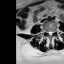CCS_normal: (49, 28, 51, 39)
LFS_stenosis: (53, 27, 55, 34)
LLS_normal: (51, 28, 53, 36)
RFS_normal: (45, 27, 47, 34)
RLS_normal: (47, 28, 49, 36)
